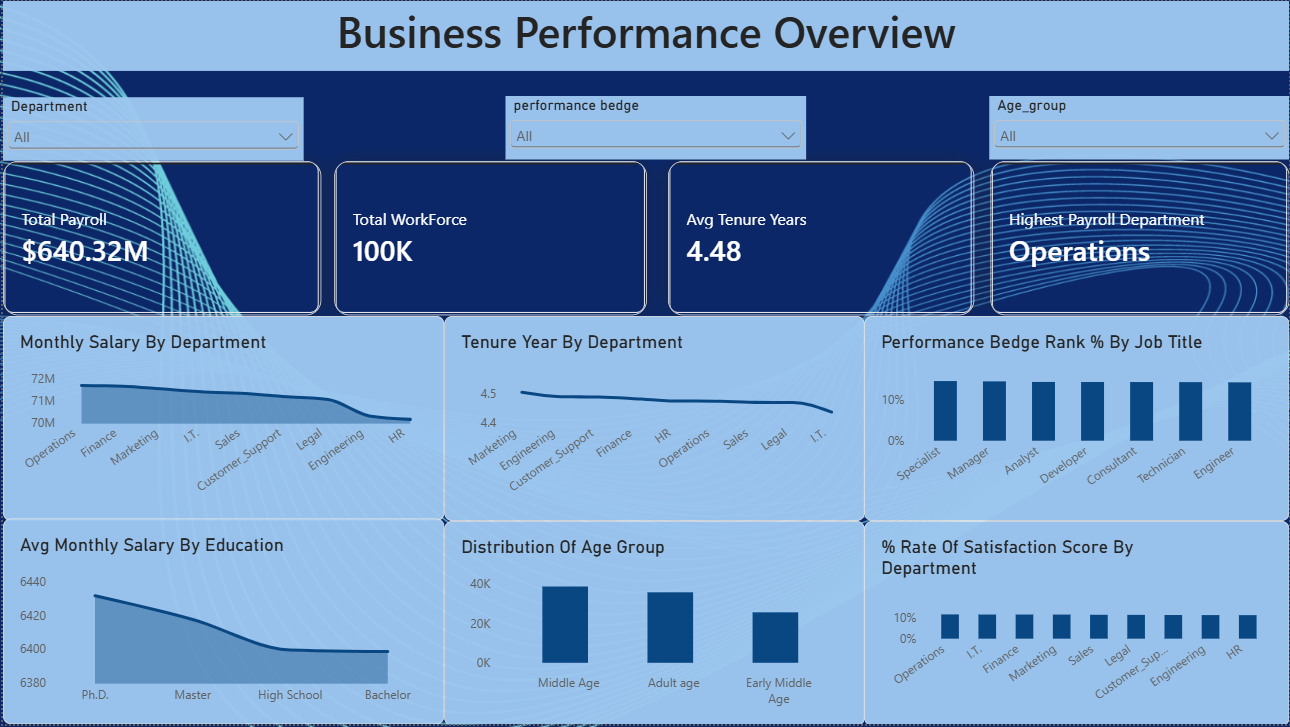

Layout of this report page (visuals, bound fields, positions):
{"tool":"powerbi","page":{"name":"Business Overview","canvas":[1280,720],"ordinal":0},"visuals":[{"type":"textbox","box":[0,0,1280.3,70],"z":0},{"type":"cardVisual","fields":{"Data":["Measure Table.Total Payroll"]},"box":[0,159.7,316.9,153.2],"z":1000},{"type":"cardVisual","fields":{"Data":["Measure Table.Total Employee"]},"box":[329.6,159.2,311.5,153.7],"z":2000},{"type":"cardVisual","fields":{"Data":["Measure Table.Highest Payroll Department"]},"box":[982.7,159.2,297.8,153.7],"z":3000},{"type":"cardVisual","fields":{"Data":["Measure Table.Avg Tenure"]},"box":[661.8,159.2,304.6,153.7],"z":4000},{"type":"stackedAreaChart","title":"Monthly Salary By Department","fields":{"Category":["Clean data.Department"],"Y":["Sum(Clean data.Monthly_Salary)"]},"box":[0,313,439,203.9],"z":5000},{"type":"lineChart","title":"Tenure Year By Department","fields":{"Y":["Avg(Clean data.Years_At_Company)"],"Category":["Clean data.Department"]},"box":[439,313,418.2,203.9],"z":6000},{"type":"clusteredColumnChart","title":"Performance Bedge Rank % By Job Title","fields":{"Category":["Clean data.Job_Title"],"Y":["CountNonNull(Clean data.Rank_By_Performance)"]},"box":[857.1,313,423.4,203.9],"z":7000},{"type":"stackedAreaChart","title":"Avg Monthly Salary By Education","fields":{"Category":["Clean data.Education_Level"],"Y":["Avg(Clean data.Monthly_Salary)"]},"box":[0,515.6,439,205.2],"z":8000},{"type":"columnChart","title":"Distribution Of Age Group","fields":{"Category":["Clean data.Age_group"],"Y":["CountNonNull(Clean data.Employee_ID)"]},"box":[439,516.9,418.2,203.9],"z":9000},{"type":"clusteredColumnChart","title":"% Rate Of Satisfaction Score By Department","fields":{"Category":["Clean data.Department"],"Y":["CountNonNull(Clean data.Employee_Satisfaction_Score)"]},"box":[857.1,516.9,423.4,203.9],"z":10000},{"type":"slicer","fields":{"Values":["Clean data.Department"]},"box":[0,95.8,299.1,63.1],"z":11000},{"type":"slicer","fields":{"Values":["Clean data.performance bedge"]},"box":[500.1,94.5,299.1,63.1],"z":12000},{"type":"slicer","fields":{"Values":["Clean data.Age_group"]},"box":[981.5,94.5,299.1,63.1],"z":13000}]}

Visuals, with their boxes in screenshot pixels (x1, y1, x2, y2), scaled from the page's 1280x720 canvas onto the 1290x727 screenshot:
textbox: bbox=[0, 0, 1289, 71]
cardVisual - Measure Table.Total Payroll: bbox=[0, 161, 319, 316]
cardVisual - Measure Table.Total Employee: bbox=[332, 161, 646, 316]
cardVisual - Measure Table.Highest Payroll Department: bbox=[990, 161, 1289, 316]
cardVisual - Measure Table.Avg Tenure: bbox=[667, 161, 974, 316]
"Monthly Salary By Department" stackedAreaChart: bbox=[0, 316, 442, 522]
"Tenure Year By Department" lineChart: bbox=[442, 316, 864, 522]
"Performance Bedge Rank % By Job Title" clusteredColumnChart: bbox=[864, 316, 1289, 522]
"Avg Monthly Salary By Education" stackedAreaChart: bbox=[0, 521, 442, 726]
"Distribution Of Age Group" columnChart: bbox=[442, 522, 864, 726]
"% Rate Of Satisfaction Score By Department" clusteredColumnChart: bbox=[864, 522, 1289, 726]
slicer - Clean data.Department: bbox=[0, 97, 301, 160]
slicer - Clean data.performance bedge: bbox=[504, 95, 805, 159]
slicer - Clean data.Age_group: bbox=[989, 95, 1289, 159]
